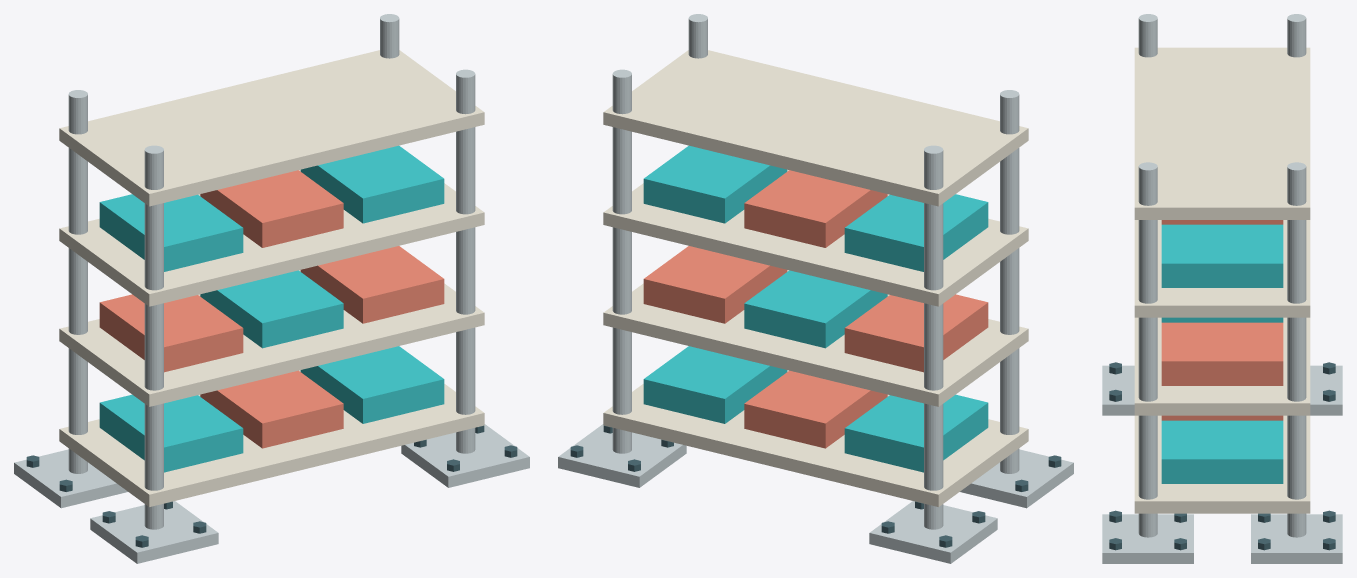
File: waterpark-and-pool-operations-waterpark-and-pool-opera-414f7c76__28970.glb
3 renders of one model, left to right at view 1: azimuth 30°, elevation 25°; view 2: azimuth 150°, elevation 25°; view 3: azimuth 270°, elevation 25°, orthographic. The views are drawn at different scales.
Parts seen in each view (by area): view 1: waterpark-and-pool-operations-towel-station; view 2: waterpark-and-pool-operations-towel-station; view 3: waterpark-and-pool-operations-towel-station.
Boxes of the visible parts, x1=… form: waterpark-and-pool-operations-towel-station: x1=14, y1=14, x2=529, y2=563; waterpark-and-pool-operations-towel-station: x1=558, y1=14, x2=1073, y2=563; waterpark-and-pool-operations-towel-station: x1=1102, y1=14, x2=1342, y2=563.
Bounding box in the file's own units: 1.64 × 1.55 × 0.89.
